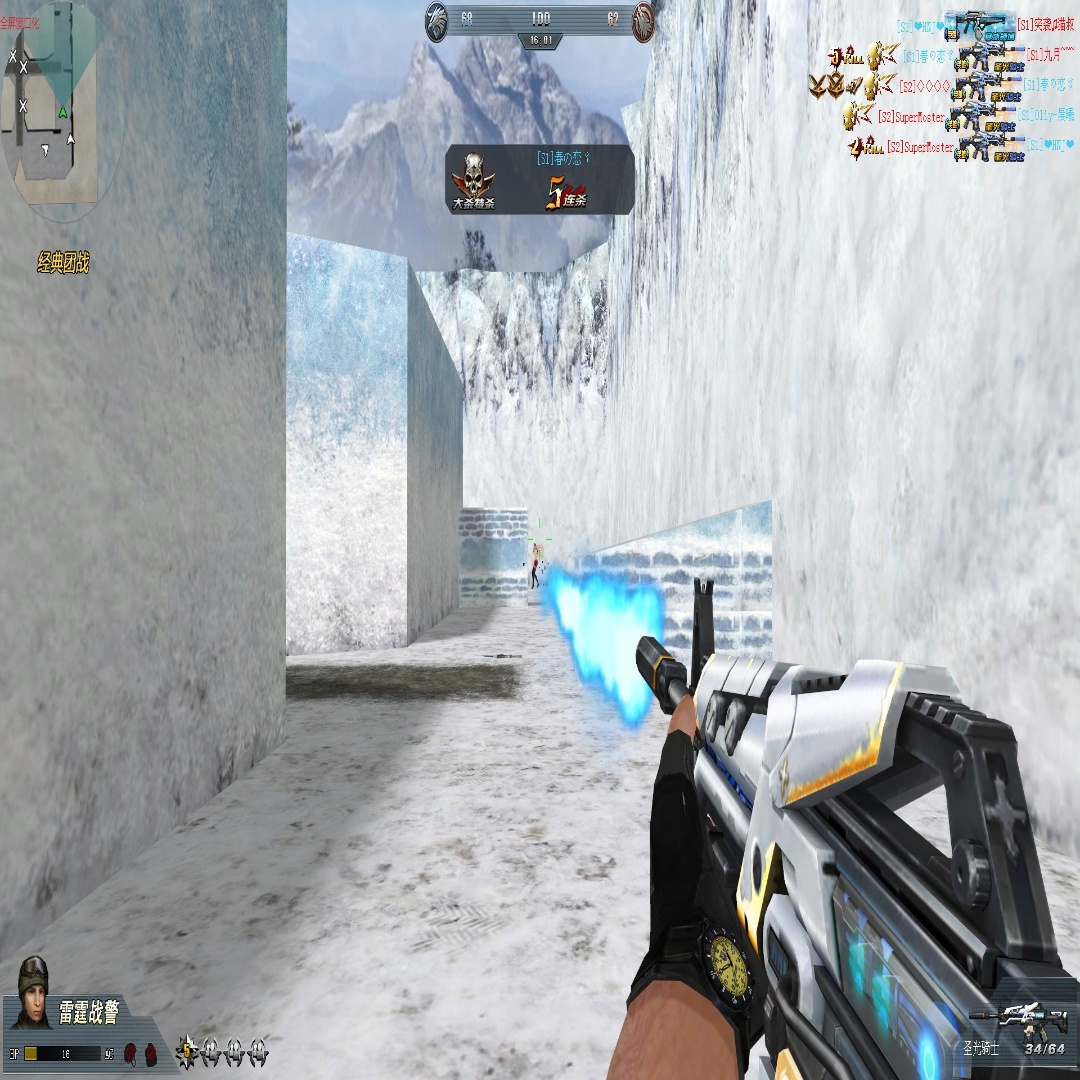t: (529, 542, 542, 589)
